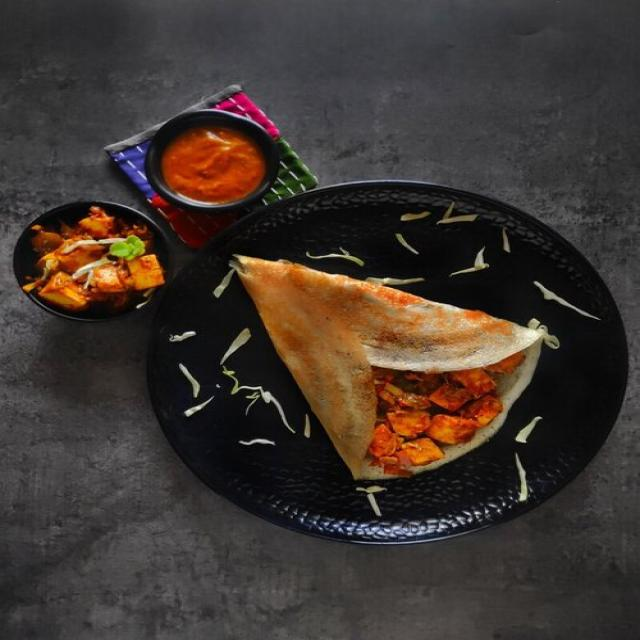Wet Waste: (215, 245, 544, 477)
